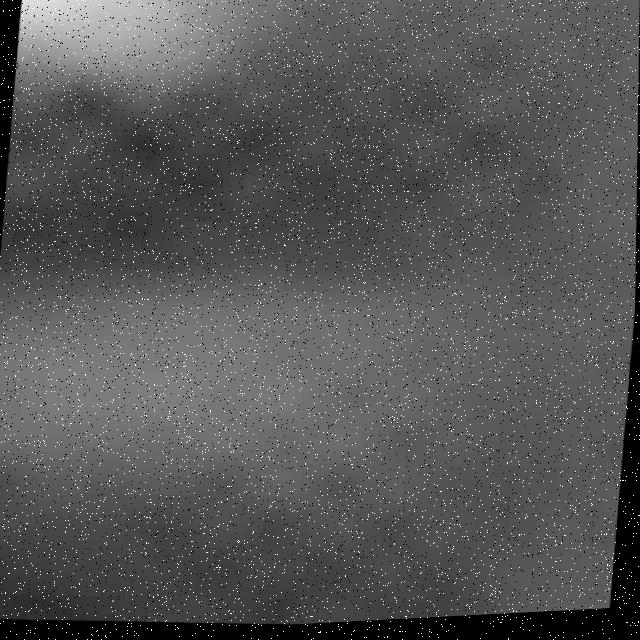person: (15, 1, 274, 110)
